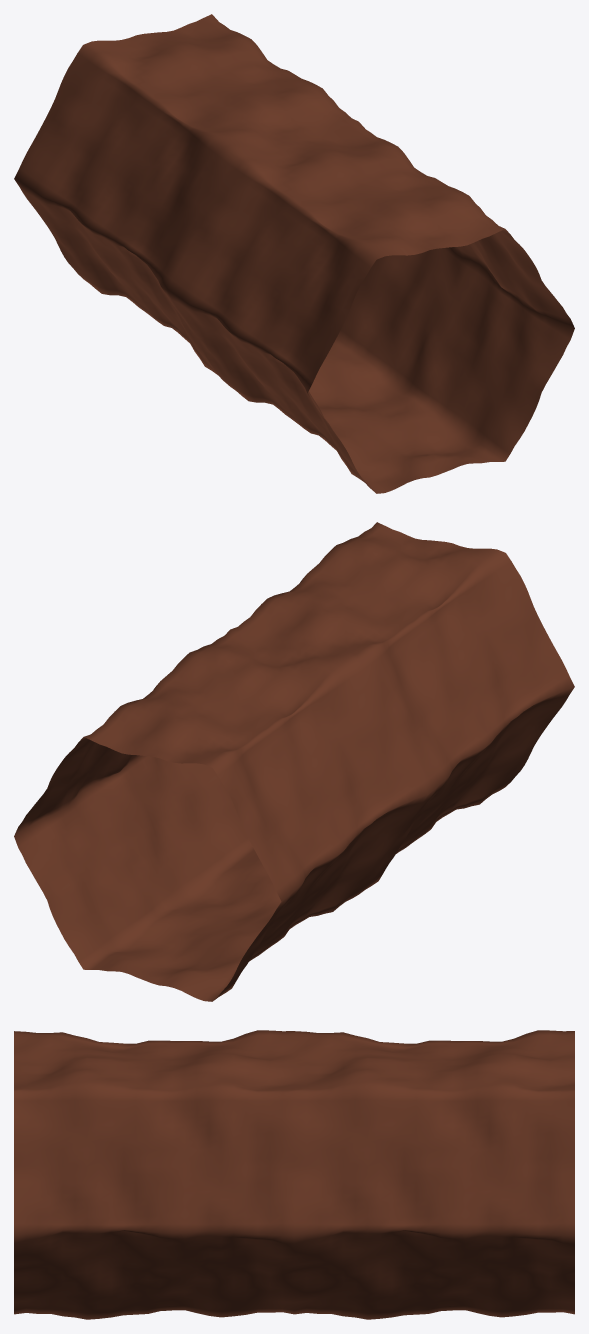
The model's file is Cave2.fbx.
3 views of the same model, one above another, from view 1: azimuth 30°, elevation 25°; view 2: azimuth 150°, elevation 25°; view 3: azimuth 270°, elevation 25° (orthographic). The views are drawn at different scales.
Parts seen in each view (by area): view 1: Cylinder6; view 2: Cylinder6; view 3: Cylinder6.
Boxes of the visible parts, x1,y1,x2,y2 form: Cylinder6: [14, 14, 574, 493]; Cylinder6: [14, 522, 574, 1001]; Cylinder6: [14, 1030, 574, 1319].
Size of the model in its own units: 211 by 187 by 400.
